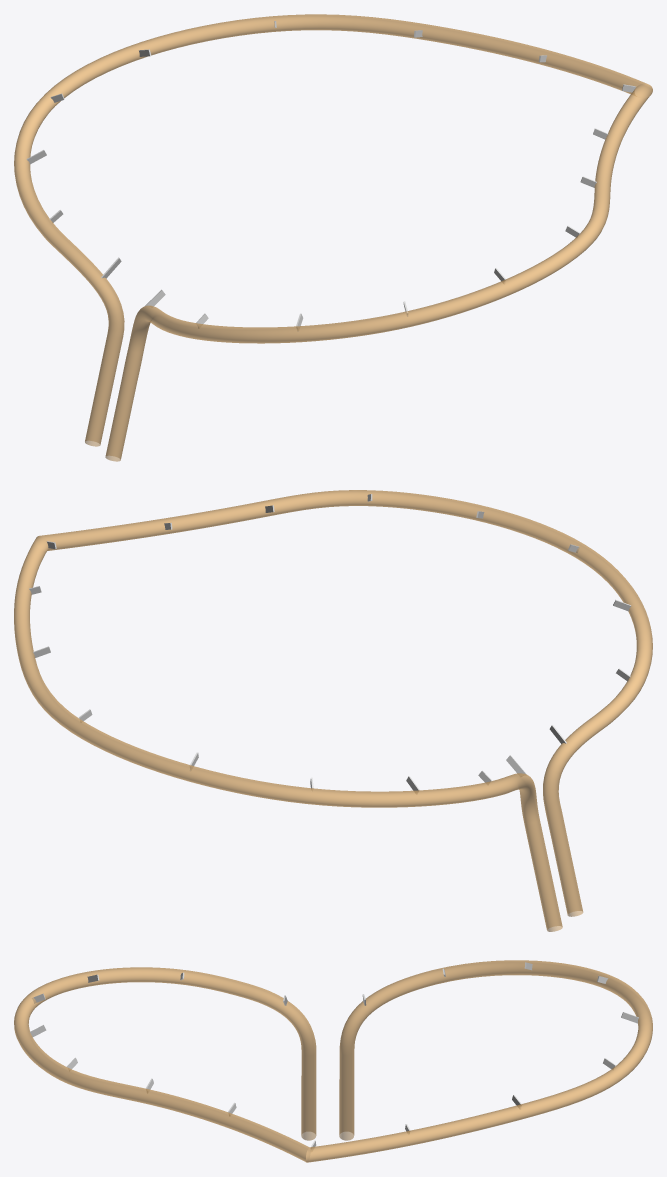
Rendered from vigaBorde.gltf.
The picture shows the model from 3 angles, top to bottom: view 1: azimuth 30°, elevation 25°; view 2: azimuth 150°, elevation 25°; view 3: azimuth 270°, elevation 25°; orthographic projection. The views are drawn at different scales.
Parts seen in each view (by area): view 1: test; view 2: test; view 3: test.
Part boxes in pixels (x1,y1,x2,y2): test: (14, 14, 652, 461); test: (14, 490, 652, 931); test: (14, 960, 652, 1162).
Bounding box in the file's own units: 12.28 × 5.45 × 13.46.
